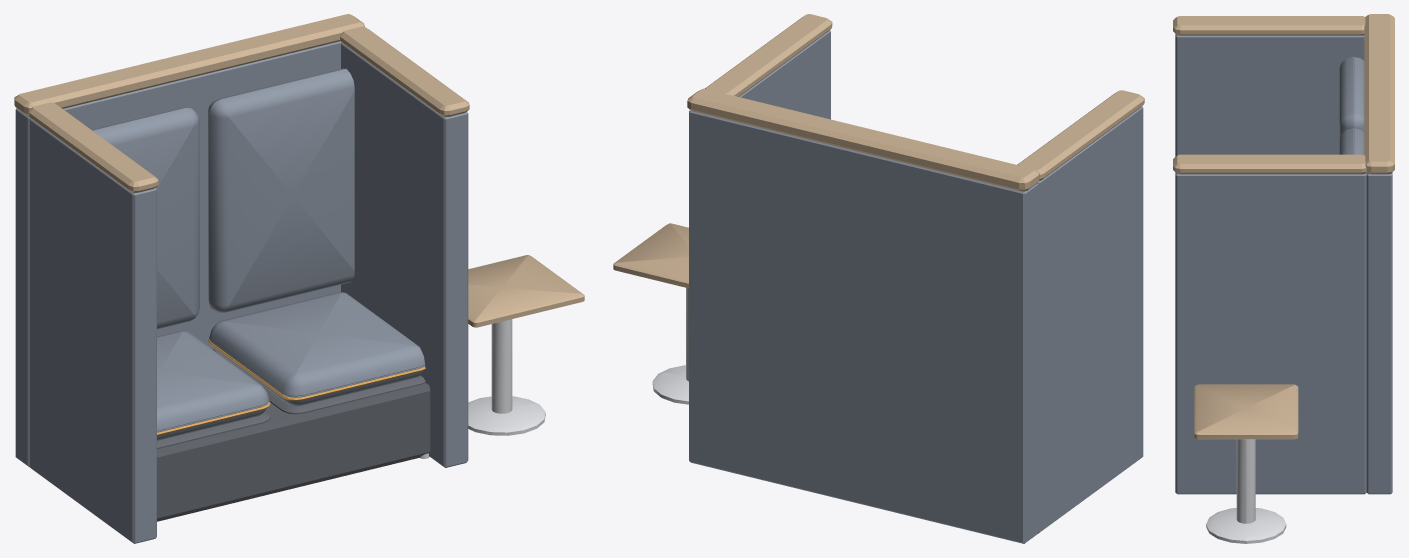
The model's file is office-lobby-and-facilities-soft-booth-two-person-3a2b28e1__26246.glb.
The picture shows the model from 3 angles, left to right: view 1: azimuth 30°, elevation 25°; view 2: azimuth 150°, elevation 25°; view 3: azimuth 270°, elevation 25°; orthographic projection. The views are drawn at different scales.
Parts seen in each view (by area): view 1: soft-booth-two-person; view 2: soft-booth-two-person; view 3: soft-booth-two-person.
Part boxes in pixels (box(x1,y1,x2,y2)): soft-booth-two-person: box(14, 14, 584, 543); soft-booth-two-person: box(613, 14, 1144, 543); soft-booth-two-person: box(1173, 14, 1394, 543).
Bounding box in the file's own units: 2.08 × 1.56 × 0.9401.
